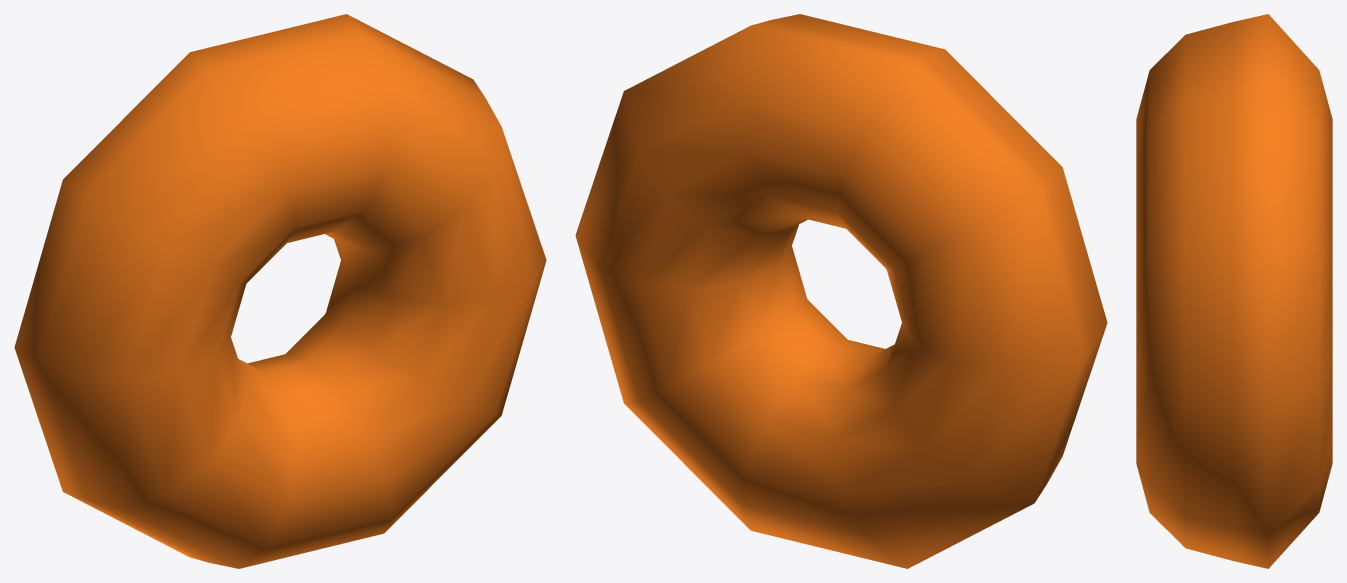
File: Bagel.glb
The picture shows the model from 3 angles, left to right: view 1: azimuth 30°, elevation 25°; view 2: azimuth 150°, elevation 25°; view 3: azimuth 270°, elevation 25°; orthographic projection. The views are drawn at different scales.
Parts seen in each view (by area): view 1: bagel; view 2: bagel; view 3: bagel.
Boxes of the visible parts, x1,y1,x2,y2 form: bagel: (14,14,546,568); bagel: (575,14,1107,568); bagel: (1136,14,1332,568).
Bounding box in the file's own units: 11.53 × 10.97 × 4.04.
Materials: 1 (1 with a texture image).
